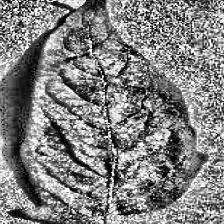spider mites: (21, 0, 206, 214)
